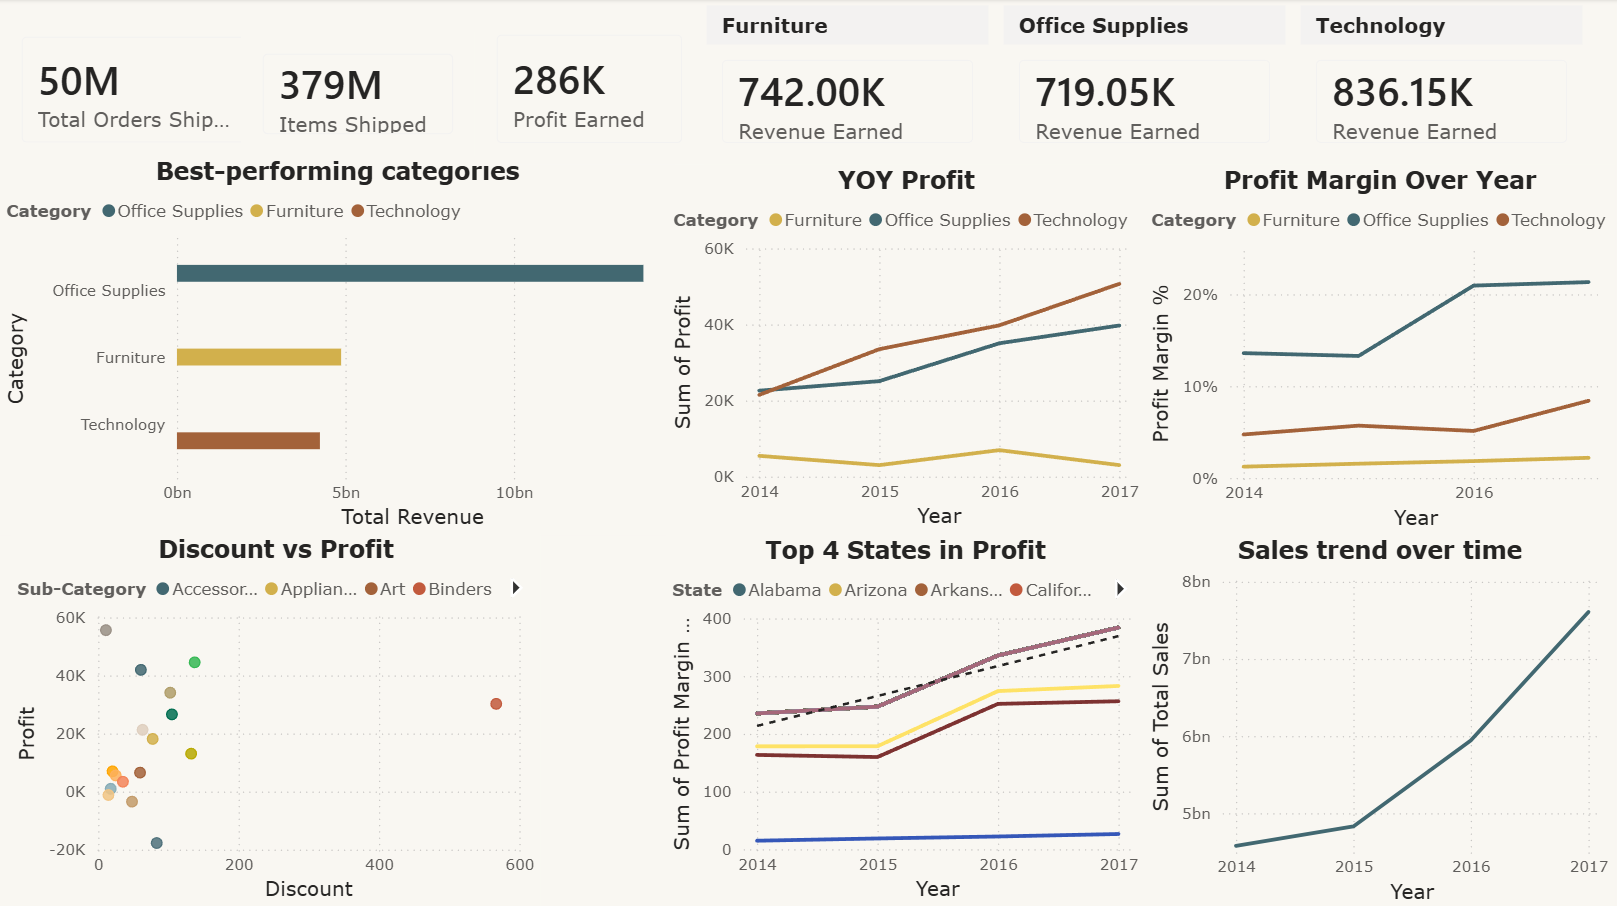

This screenshot's page, from the dashboard's own definition file:
{"tool":"powerbi","page":{"name":"Page 1","canvas":[1280,720],"ordinal":0},"visuals":[{"type":"cardVisual","fields":{"Data":["Sum(Retails Order Full Dataset.Total Orders)"]},"box":[0,13,218.5,118.3],"z":0},{"type":"cardVisual","title":"Quantity Side","fields":{"Data":["Sum(Retails Order Full Dataset.Total Quantity Sold)"]},"box":[190.4,26.1,185.4,98.2],"z":1000},{"type":"lineChart","title":"Sales trend over time","fields":{"Category":["Calendar Table.Month & Year.Variation.Date Hierarchy.Year","Calendar Table.Month & Year.Variation.Date Hierarchy.Quarter","Calendar Table.Month & Year.Variation.Date Hierarchy.Month","Calendar Table.Month & Year.Variation.Date Hierarchy.Day"],"Y":["Sum(Retails Order Full Dataset.Total Sales)"]},"box":[906.1,424,371.9,295.7],"z":2000},{"type":"clusteredBarChart","title":"Best-performing categories","fields":{"Category":["Retails Order Full Dataset.Category"],"Y":["Sum(Retails Order Full Dataset.Total Sales)"],"Series":["Retails Order Full Dataset.Category"]},"box":[0,124.3,534.3,299.7],"z":3000},{"type":"lineChart","title":"YOY Profit ","fields":{"Category":["Calendar Table.Year"],"Series":["Retails Order Full Dataset.Category"],"Y":["Sum(Retails Order Full Dataset.Profit)"]},"box":[527.5,131.6,378.9,291.9],"z":5000},{"type":"cardVisual","fields":{"Rows":["Retails Order Full Dataset.Category"],"Data":["Sum(Retails Order Full Dataset.Sales)"]},"box":[534.3,0,743.7,131.3],"z":6000},{"type":"cardVisual","fields":{"Data":["Sum(Retails Order Full Dataset.Profit)"]},"box":[375.9,11,181.4,120.3],"z":7000},{"type":"lineChart","title":"Profit Margin Over Year ","fields":{"Y":["Sum(Retails Order Full Dataset.Profit Margin %)"],"Category":["Calendar Table.Year"],"Series":["Retails Order Full Dataset.Category"]},"box":[906,131,372,293],"z":9000},{"type":"scatterChart","title":"Discount vs Profit","fields":{"X":["Sum(Retails Order Full Dataset.Discount)"],"Y":["Sum(Retails Order Full Dataset.Profit)"],"Series":["Retails Order Full Dataset.Sub-Category"]},"box":[8.5,423.5,419.2,295.1],"z":9001},{"type":"lineChart","title":"Top 4 States in Profit","fields":{"Category":["Calendar Table.Year"],"Series":["Data2.State"],"Y":["Sum(Retails Order Full Dataset.Profit Margin %)"]},"box":[527,424,379,294],"z":9002}]}

Visuals, with their boxes in screenshot pixels (x1, y1, x2, y2), scaled from the page's 1280x720 canvas onto the 1617x906 screenshot:
cardVisual - Sum(Retails Order Full Dataset.Total Orders): bbox(0, 16, 276, 165)
"Quantity Side" cardVisual: bbox(241, 33, 475, 156)
"Sales trend over time" lineChart: bbox(1145, 534, 1614, 905)
"Best-performing categories" clusteredBarChart: bbox(0, 156, 675, 534)
"YOY Profit " lineChart: bbox(666, 166, 1145, 533)
cardVisual - Retails Order Full Dataset.Category x Sum(Retails Order Full Dataset.Sales): bbox(675, 0, 1614, 165)
cardVisual - Sum(Retails Order Full Dataset.Profit): bbox(475, 14, 704, 165)
"Profit Margin Over Year " lineChart: bbox(1145, 165, 1614, 534)
"Discount vs Profit" scatterChart: bbox(11, 533, 540, 904)
"Top 4 States in Profit" lineChart: bbox(666, 534, 1145, 903)
